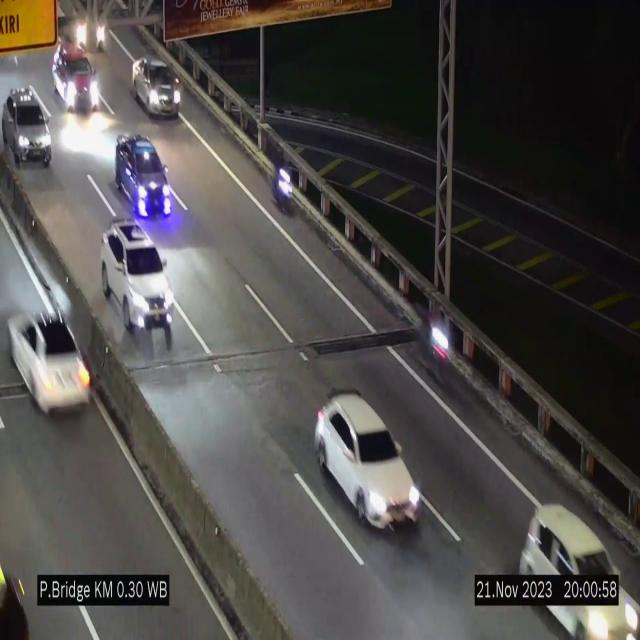Car: (513, 496, 640, 640), (314, 393, 422, 527), (4, 284, 94, 422), (101, 222, 170, 351), (115, 134, 171, 228), (2, 78, 52, 168), (46, 34, 98, 114), (131, 56, 179, 116)
Motorcycle: (424, 303, 455, 401), (269, 152, 295, 221)
